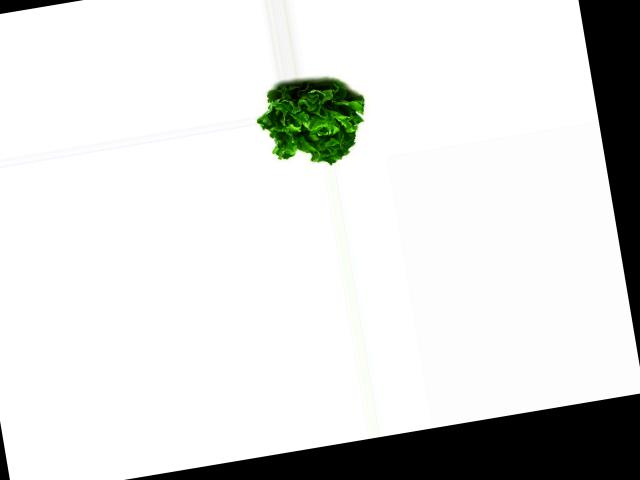lettuce: (252, 70, 371, 174)
